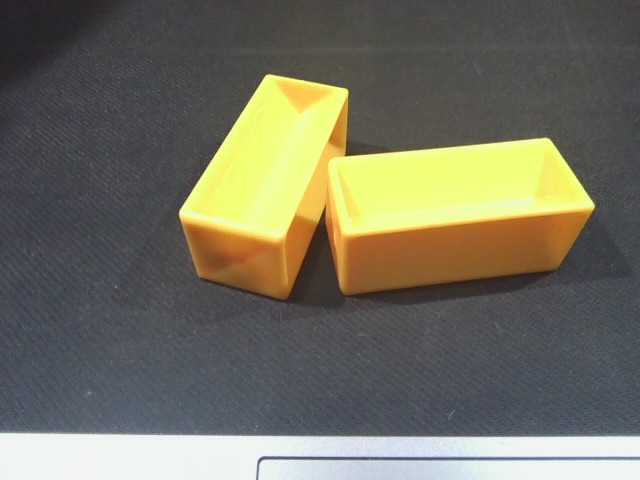YellowSample: (324, 132, 594, 297), (174, 72, 355, 303)
